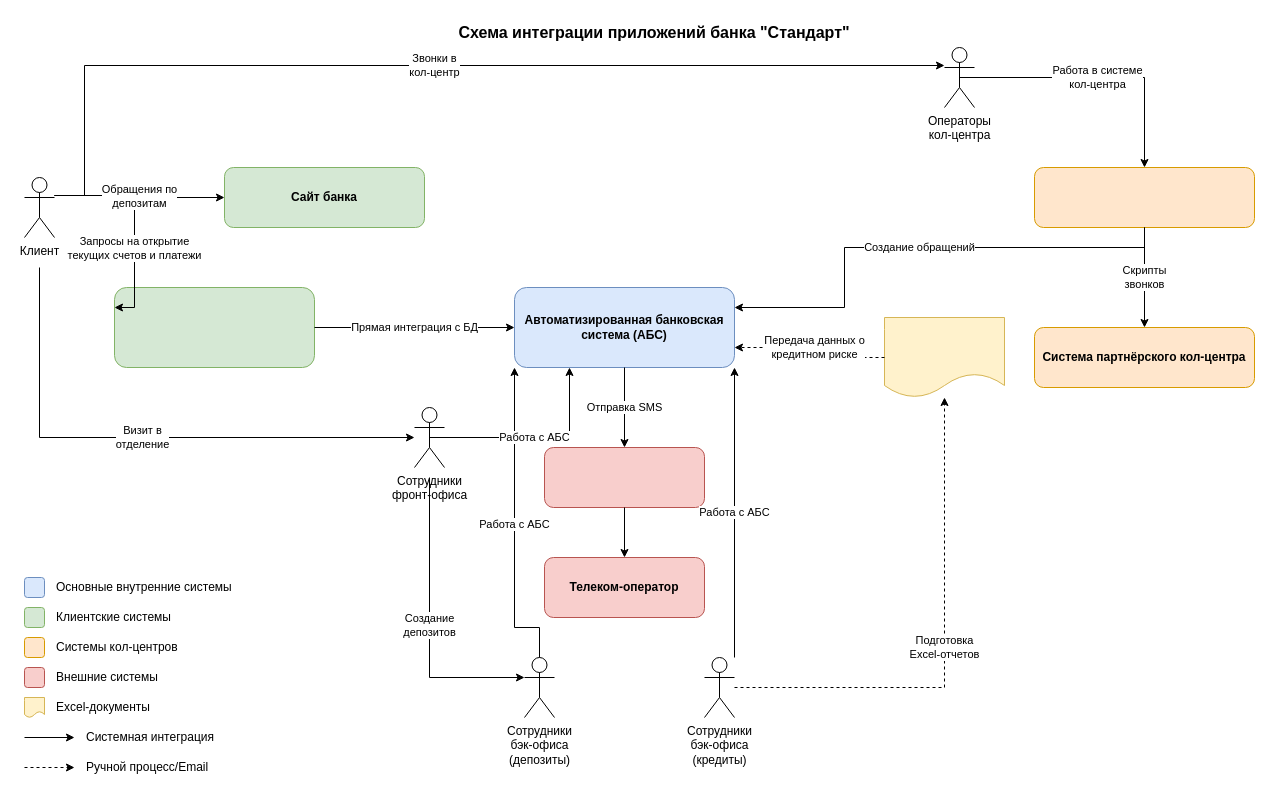
This 1272x794 diagram has some shape labels left out. The centre of each missing label's shape, as x and y in pixels:
"Excel-файлы (кредитный риск)" belongs at [944,357].
"Интернет-банк" belongs at [214,327].
"Система кол-центра" belongs at [1144,197].
"СМС-шлюз" belongs at [624,477].
